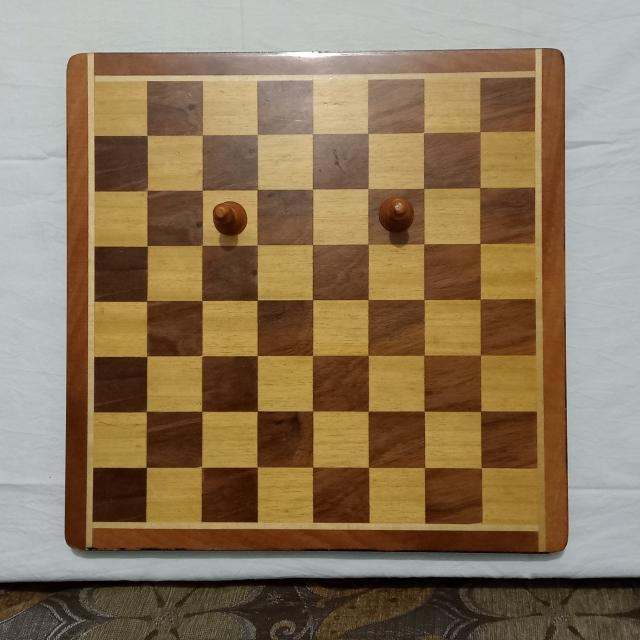white-pawn: (211, 200, 249, 240), (379, 193, 415, 234)
